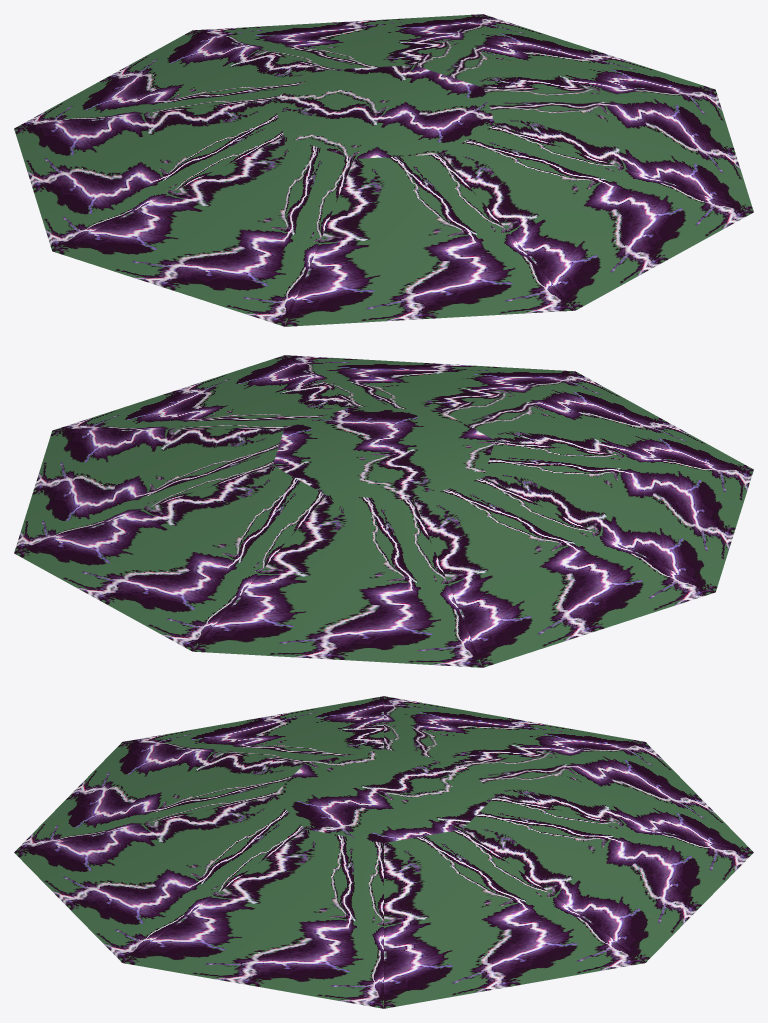
Rendered from LightningImpact.glb.
The picture shows the model from 3 angles, top to bottom: view 1: azimuth 30°, elevation 25°; view 2: azimuth 150°, elevation 25°; view 3: azimuth 270°, elevation 25°; orthographic projection. The views are drawn at different scales.
Parts seen in each view (by area): view 1: arc1.png__; view 2: arc1.png__; view 3: arc1.png__.
Part boxes in pixels (left/top/right/bottom): arc1.png__: left=14, top=14, right=753, bottom=326; arc1.png__: left=14, top=355, right=753, bottom=667; arc1.png__: left=14, top=696, right=753, bottom=1008.
Bounding box in the file's own units: 12.88 × 1.08 × 12.88.
1 material, 1 textured.
